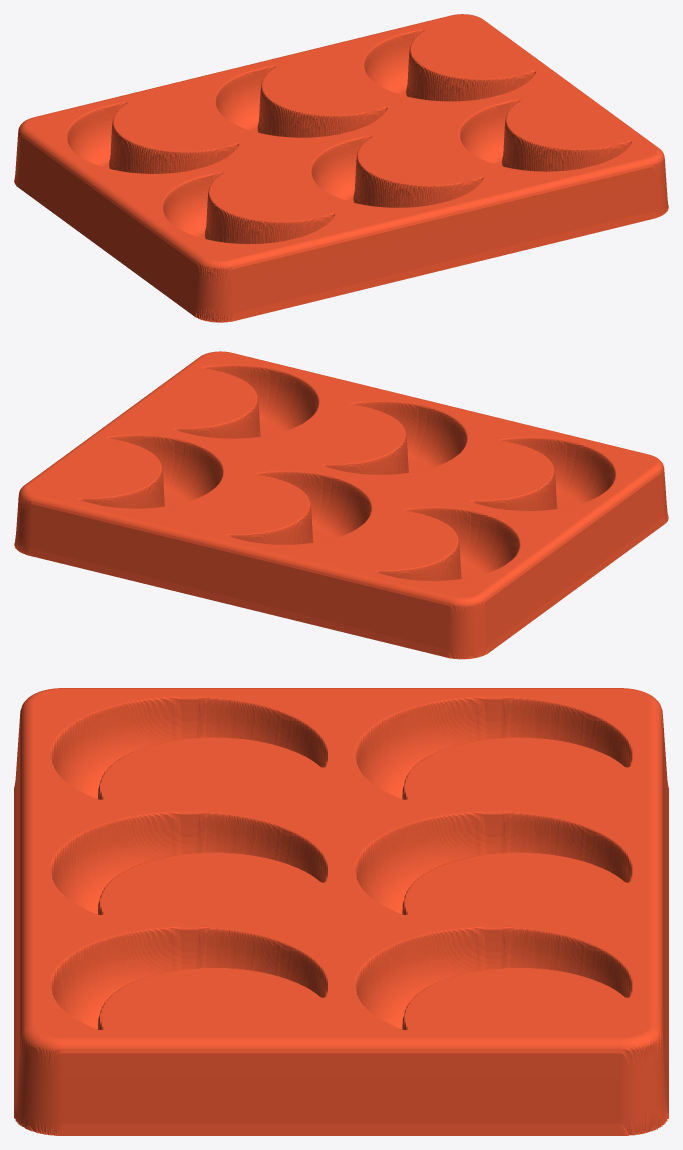
File: mold.glb
The picture shows the model from 3 angles, top to bottom: view 1: azimuth 30°, elevation 25°; view 2: azimuth 150°, elevation 25°; view 3: azimuth 270°, elevation 25°; orthographic projection. The views are drawn at different scales.
Parts seen in each view (by area): view 1: geometry_0; view 2: geometry_0; view 3: geometry_0.
Boxes of the visible parts, left/top/right/bottom form: geometry_0: left=14, top=14, right=668, bottom=322; geometry_0: left=14, top=351, right=668, bottom=659; geometry_0: left=14, top=688, right=668, bottom=1135.
Size of the model in its own units: 0.1612 by 0.0185 by 0.1222.
